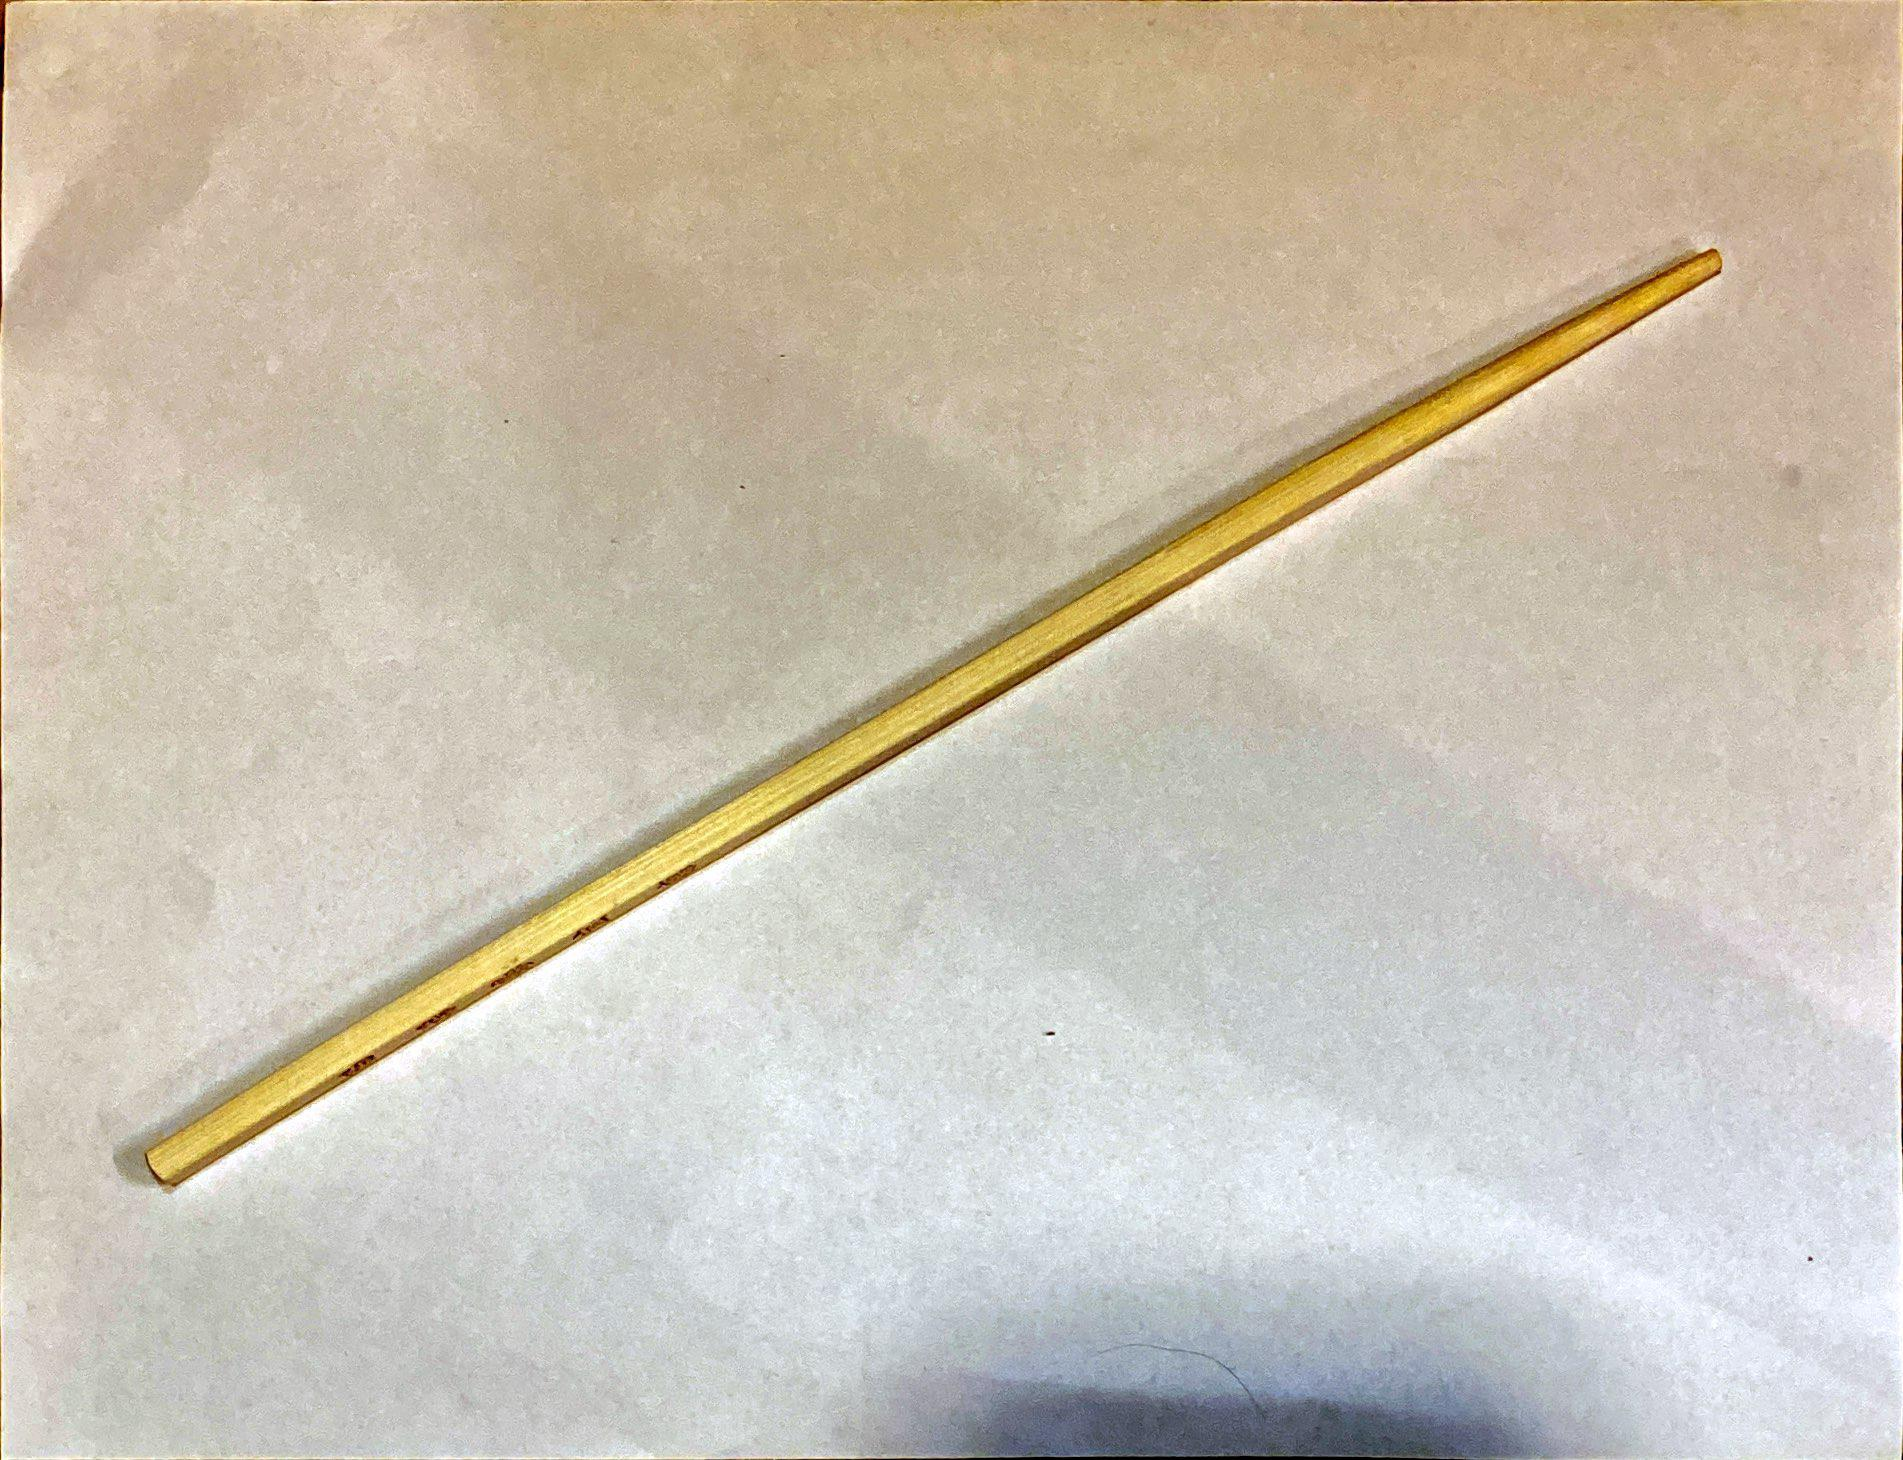Chopstick: (83, 103, 1903, 1208)
